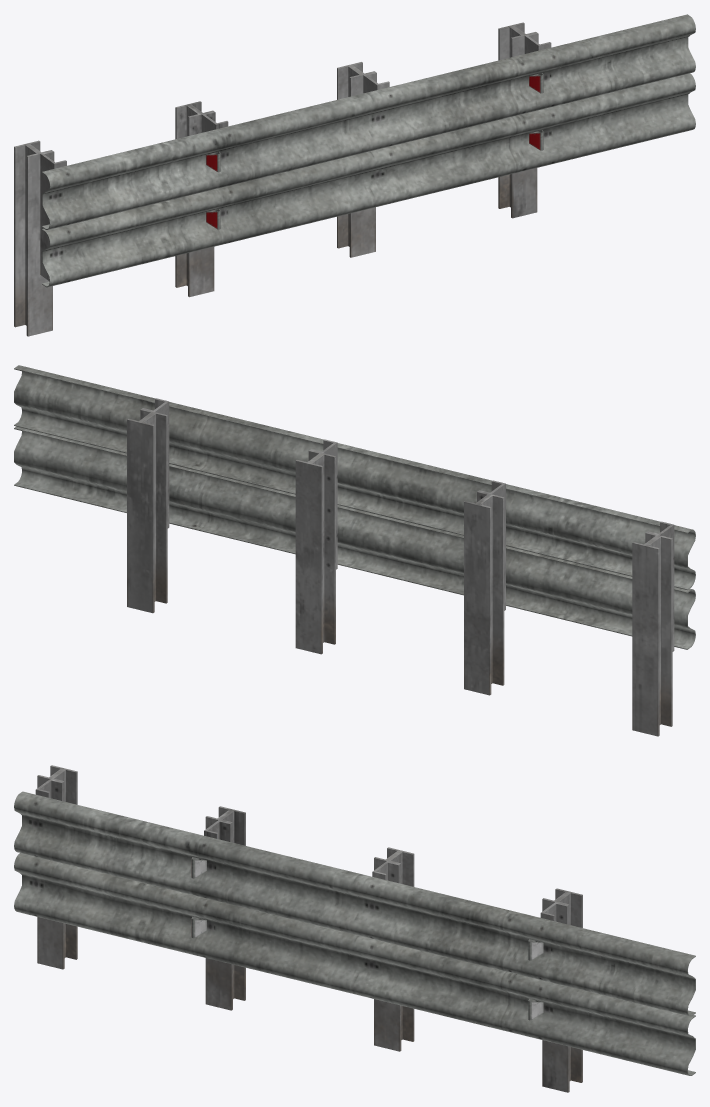
The model's file is guardrail_straight.glb.
3 renders of one model, top to bottom at view 1: azimuth 30°, elevation 25°; view 2: azimuth 150°, elevation 25°; view 3: azimuth 330°, elevation 25°, orthographic. The views are drawn at different scales.
Parts seen in each view (by area): view 1: guardrail_straight.glb; view 2: guardrail_straight.glb; view 3: guardrail_straight.glb.
Boxes of the visible parts, box(x1,y1,x2,y2) form: guardrail_straight.glb: box(14, 14, 695, 336); guardrail_straight.glb: box(14, 365, 695, 736); guardrail_straight.glb: box(14, 765, 695, 1092).
Bounding box in the file's own units: 4 × 1.06 × 0.3884.
1 material, 1 textured.
